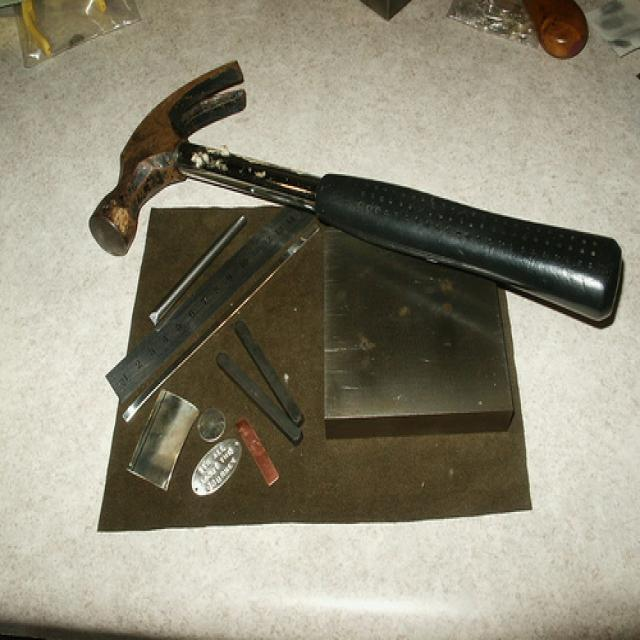hammer: (81, 52, 635, 332)
